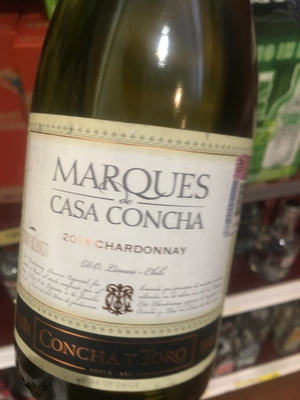marques de casa concha chardonnay: (17, 20, 252, 400)
